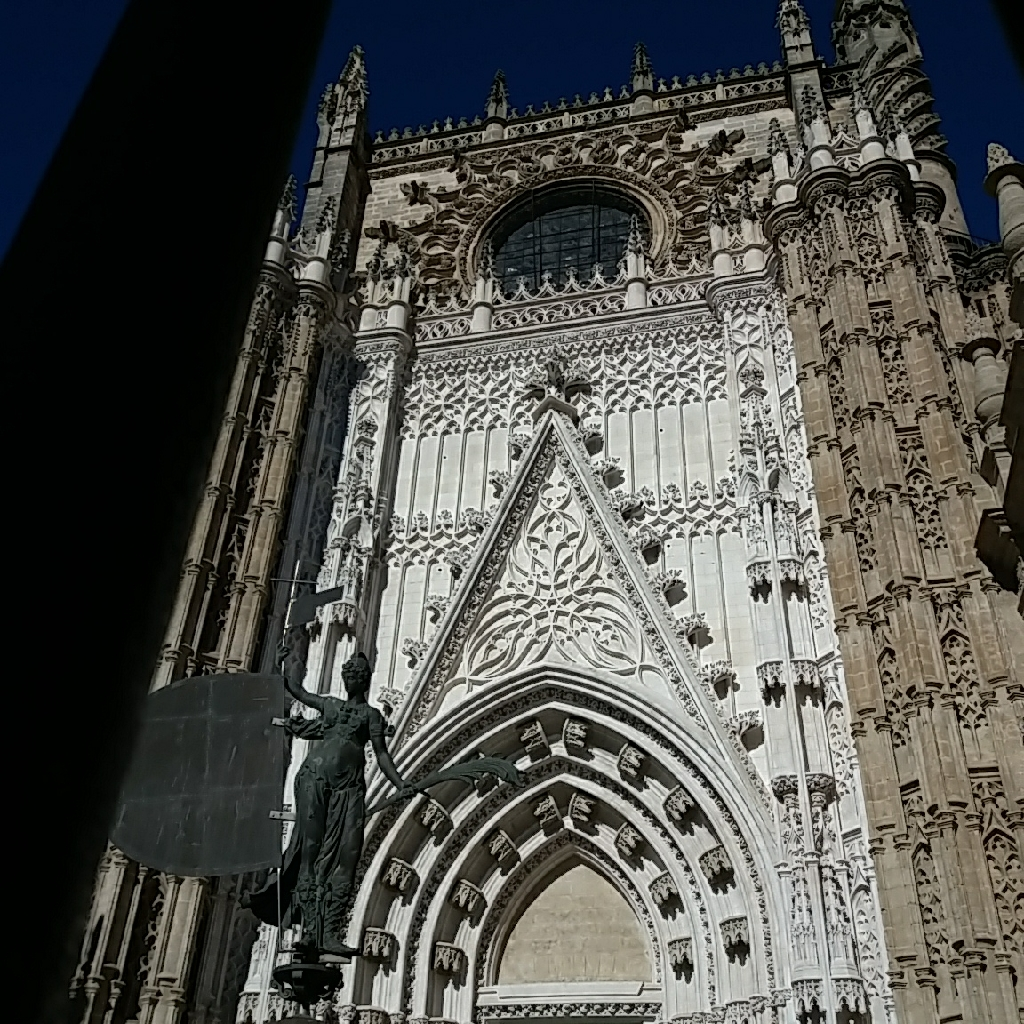arco-apuntado: (359, 696, 705, 997)
